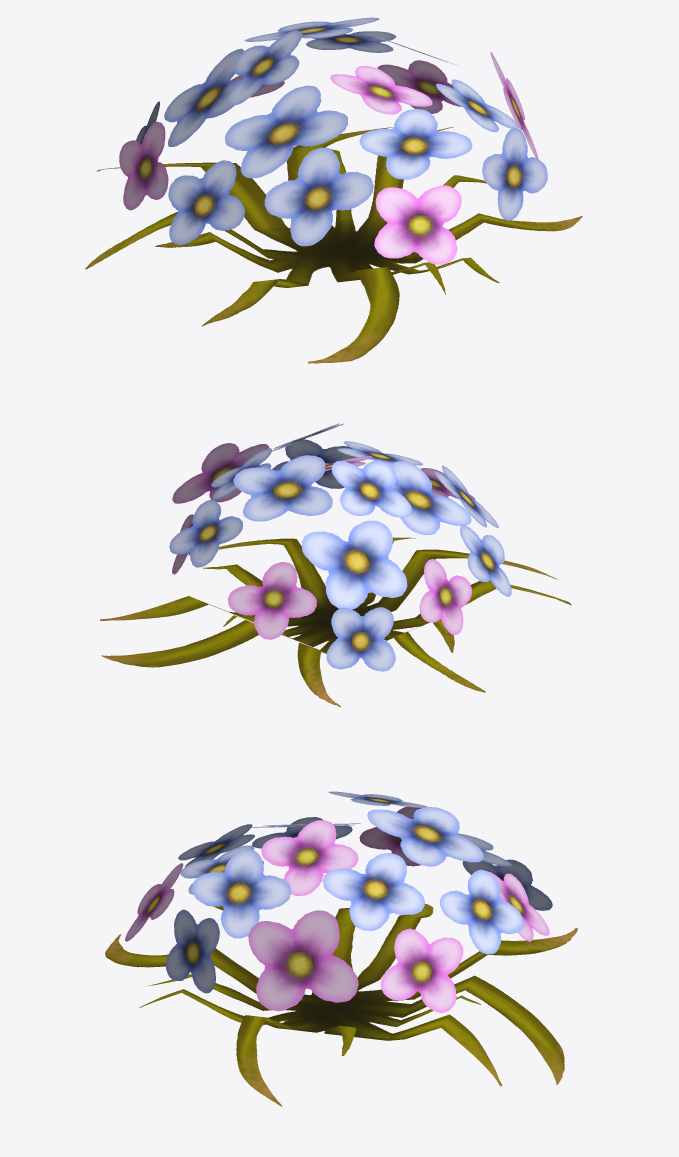
Rendered from flowerD.fbx.
3 views of the same model, one above another, from view 1: azimuth 30°, elevation 25°; view 2: azimuth 150°, elevation 25°; view 3: azimuth 270°, elevation 25° (orthographic). The views are drawn at different scales.
Parts seen in each view (by area): view 1: flowerD; view 2: flowerD; view 3: flowerD.
Boxes of the visible parts, x1=… form: flowerD: x1=85, y1=17, x2=582, y2=363; flowerD: x1=100, y1=423, x2=571, y2=707; flowerD: x1=105, y1=791, x2=577, y2=1106.
Bounding box in the file's own units: 140 × 50.89 × 142.
1 material, 1 textured.
